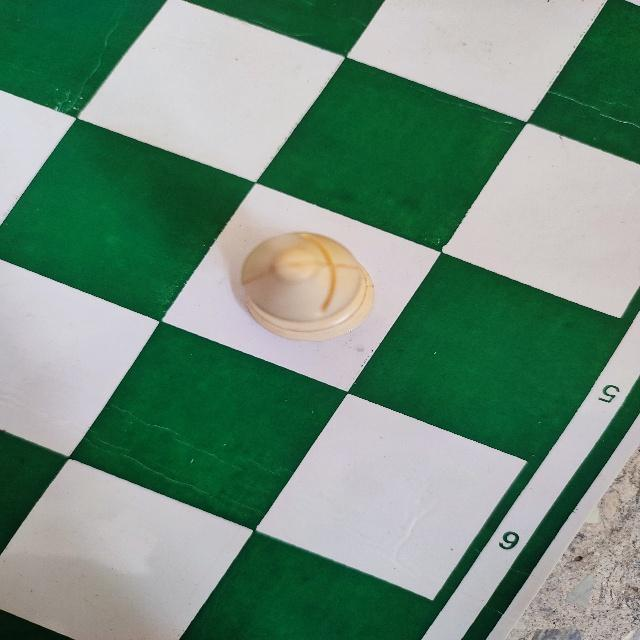Bishop: (237, 223, 382, 343)
